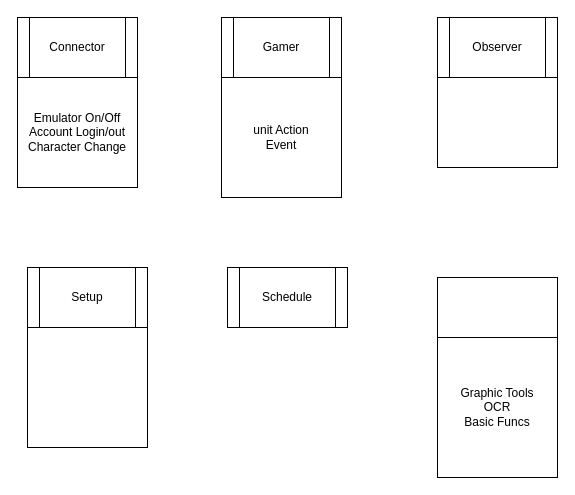
Image size: 575x495. Some labels were removed from this diagram. Here are the shapes that lost their labels. From the top down, the centre of each, then its label:
At point (497, 122): "Observe Record".
At point (497, 307): "Supporter".
